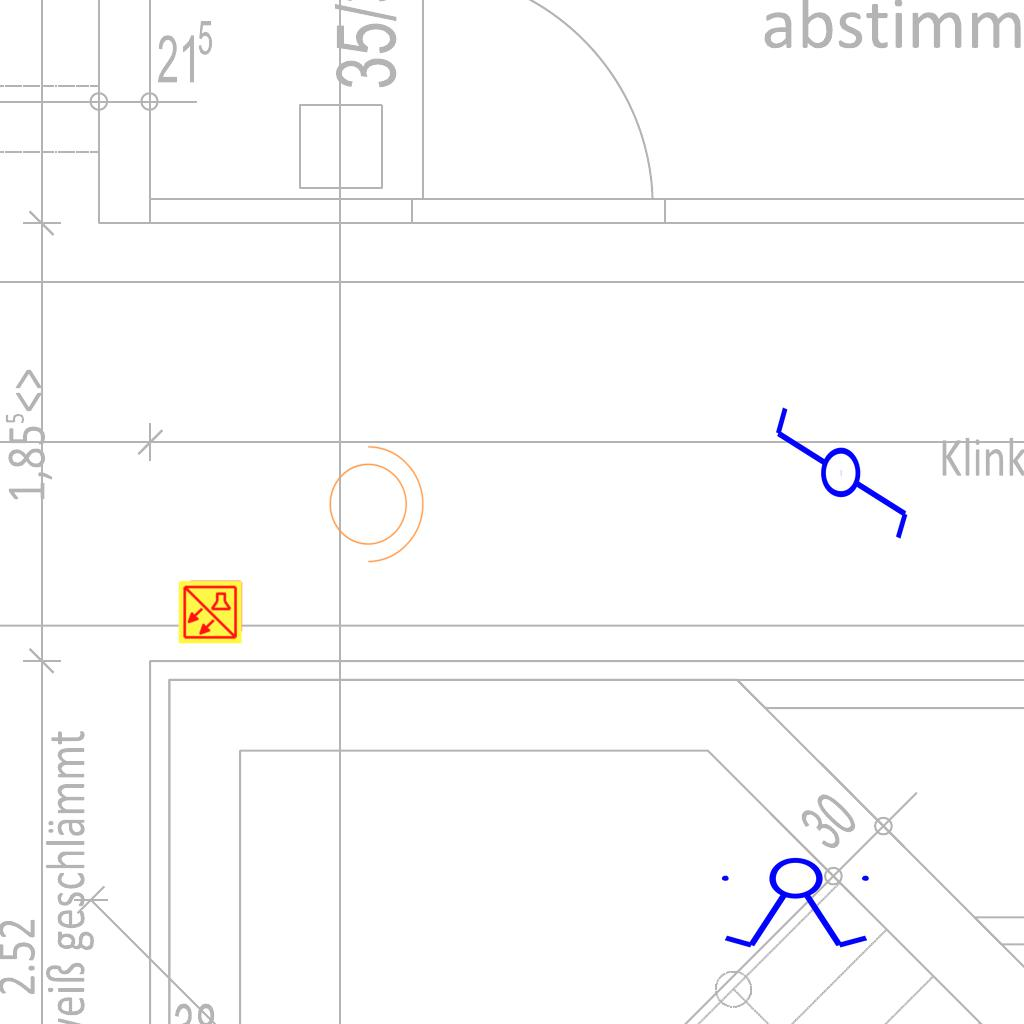OKW_Multisensormelder_(Kombination_optischer_Rauch-Kahlenmonoxid_Waerme-Melder): (177, 579, 243, 645)
Scheinwerfer_fuer_Alarmbeleuchtung: (317, 435, 429, 567)
Serienschalter: (713, 856, 881, 952)
Wechselschalter: (771, 386, 915, 543)
